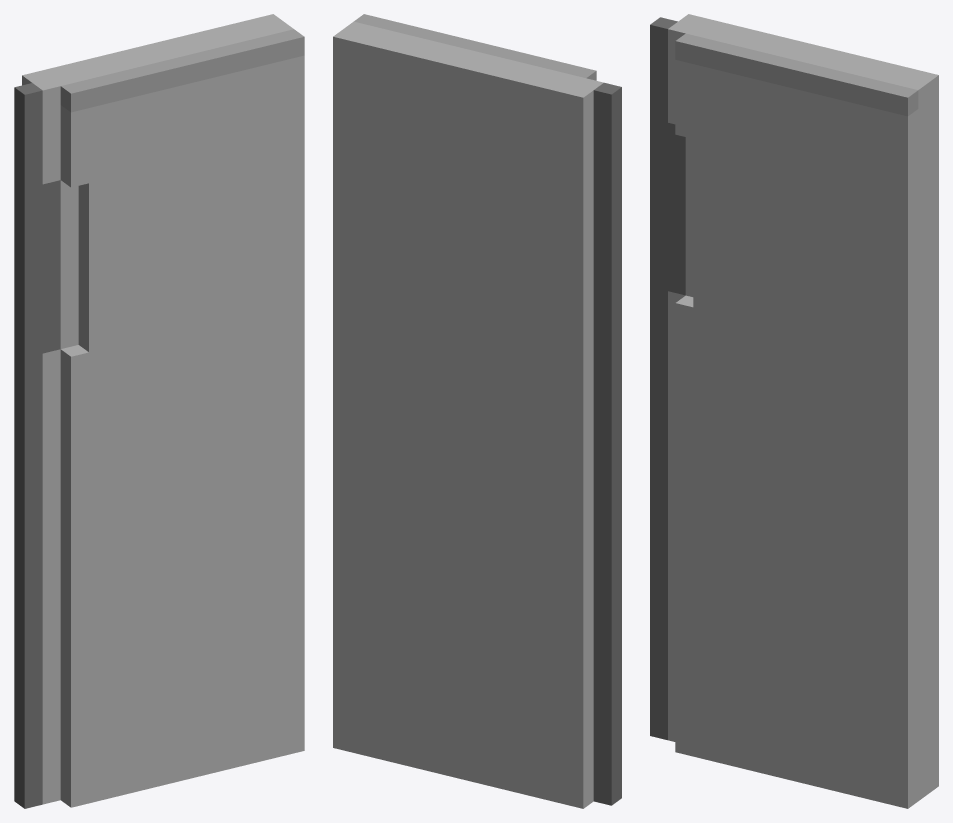
The model's file is Elevator Door Right.obj.
3 renders of one model, left to right at view 1: azimuth 30°, elevation 25°; view 2: azimuth 150°, elevation 25°; view 3: azimuth 330°, elevation 25°, orthographic.
Bounding box in the file's own units: 15 × 38 × 3.
1 material, 1 textured.
